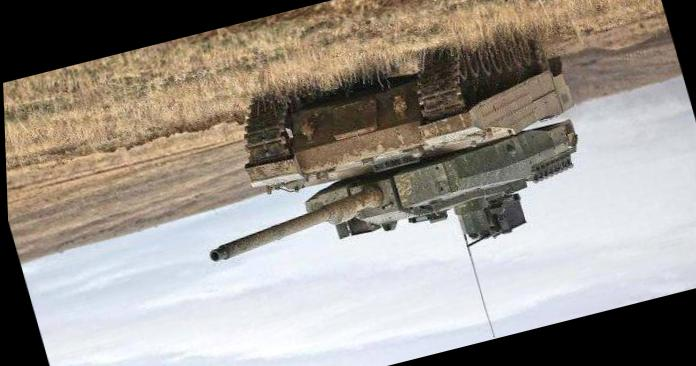tank: (162, 16, 609, 308)
